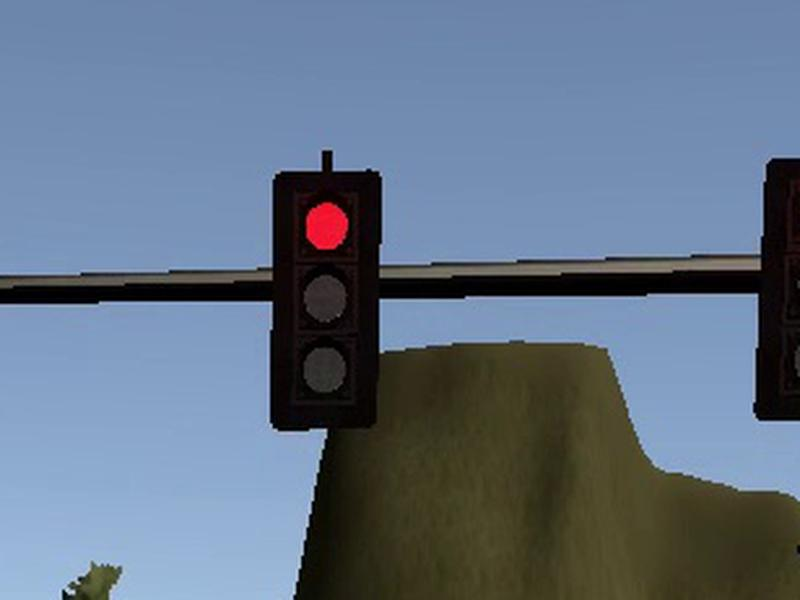Red: (269, 169, 384, 432)
